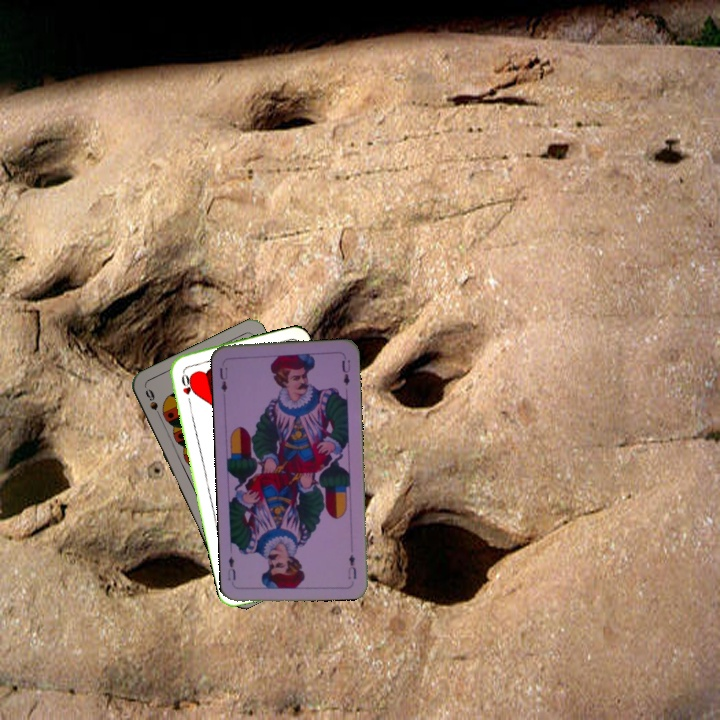EU: (344, 550, 359, 582), (216, 363, 230, 395)
HO: (177, 367, 195, 407)
S9: (141, 384, 165, 423)
